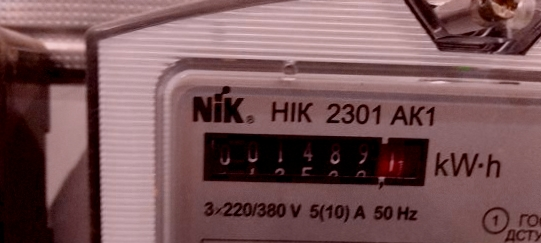0: (243, 137, 259, 162), (216, 140, 231, 166)
1: (272, 136, 286, 165), (384, 143, 396, 173)
4: (299, 137, 315, 163)
8: (325, 138, 342, 165)
9: (354, 140, 369, 165)
screen: (186, 120, 443, 199)
